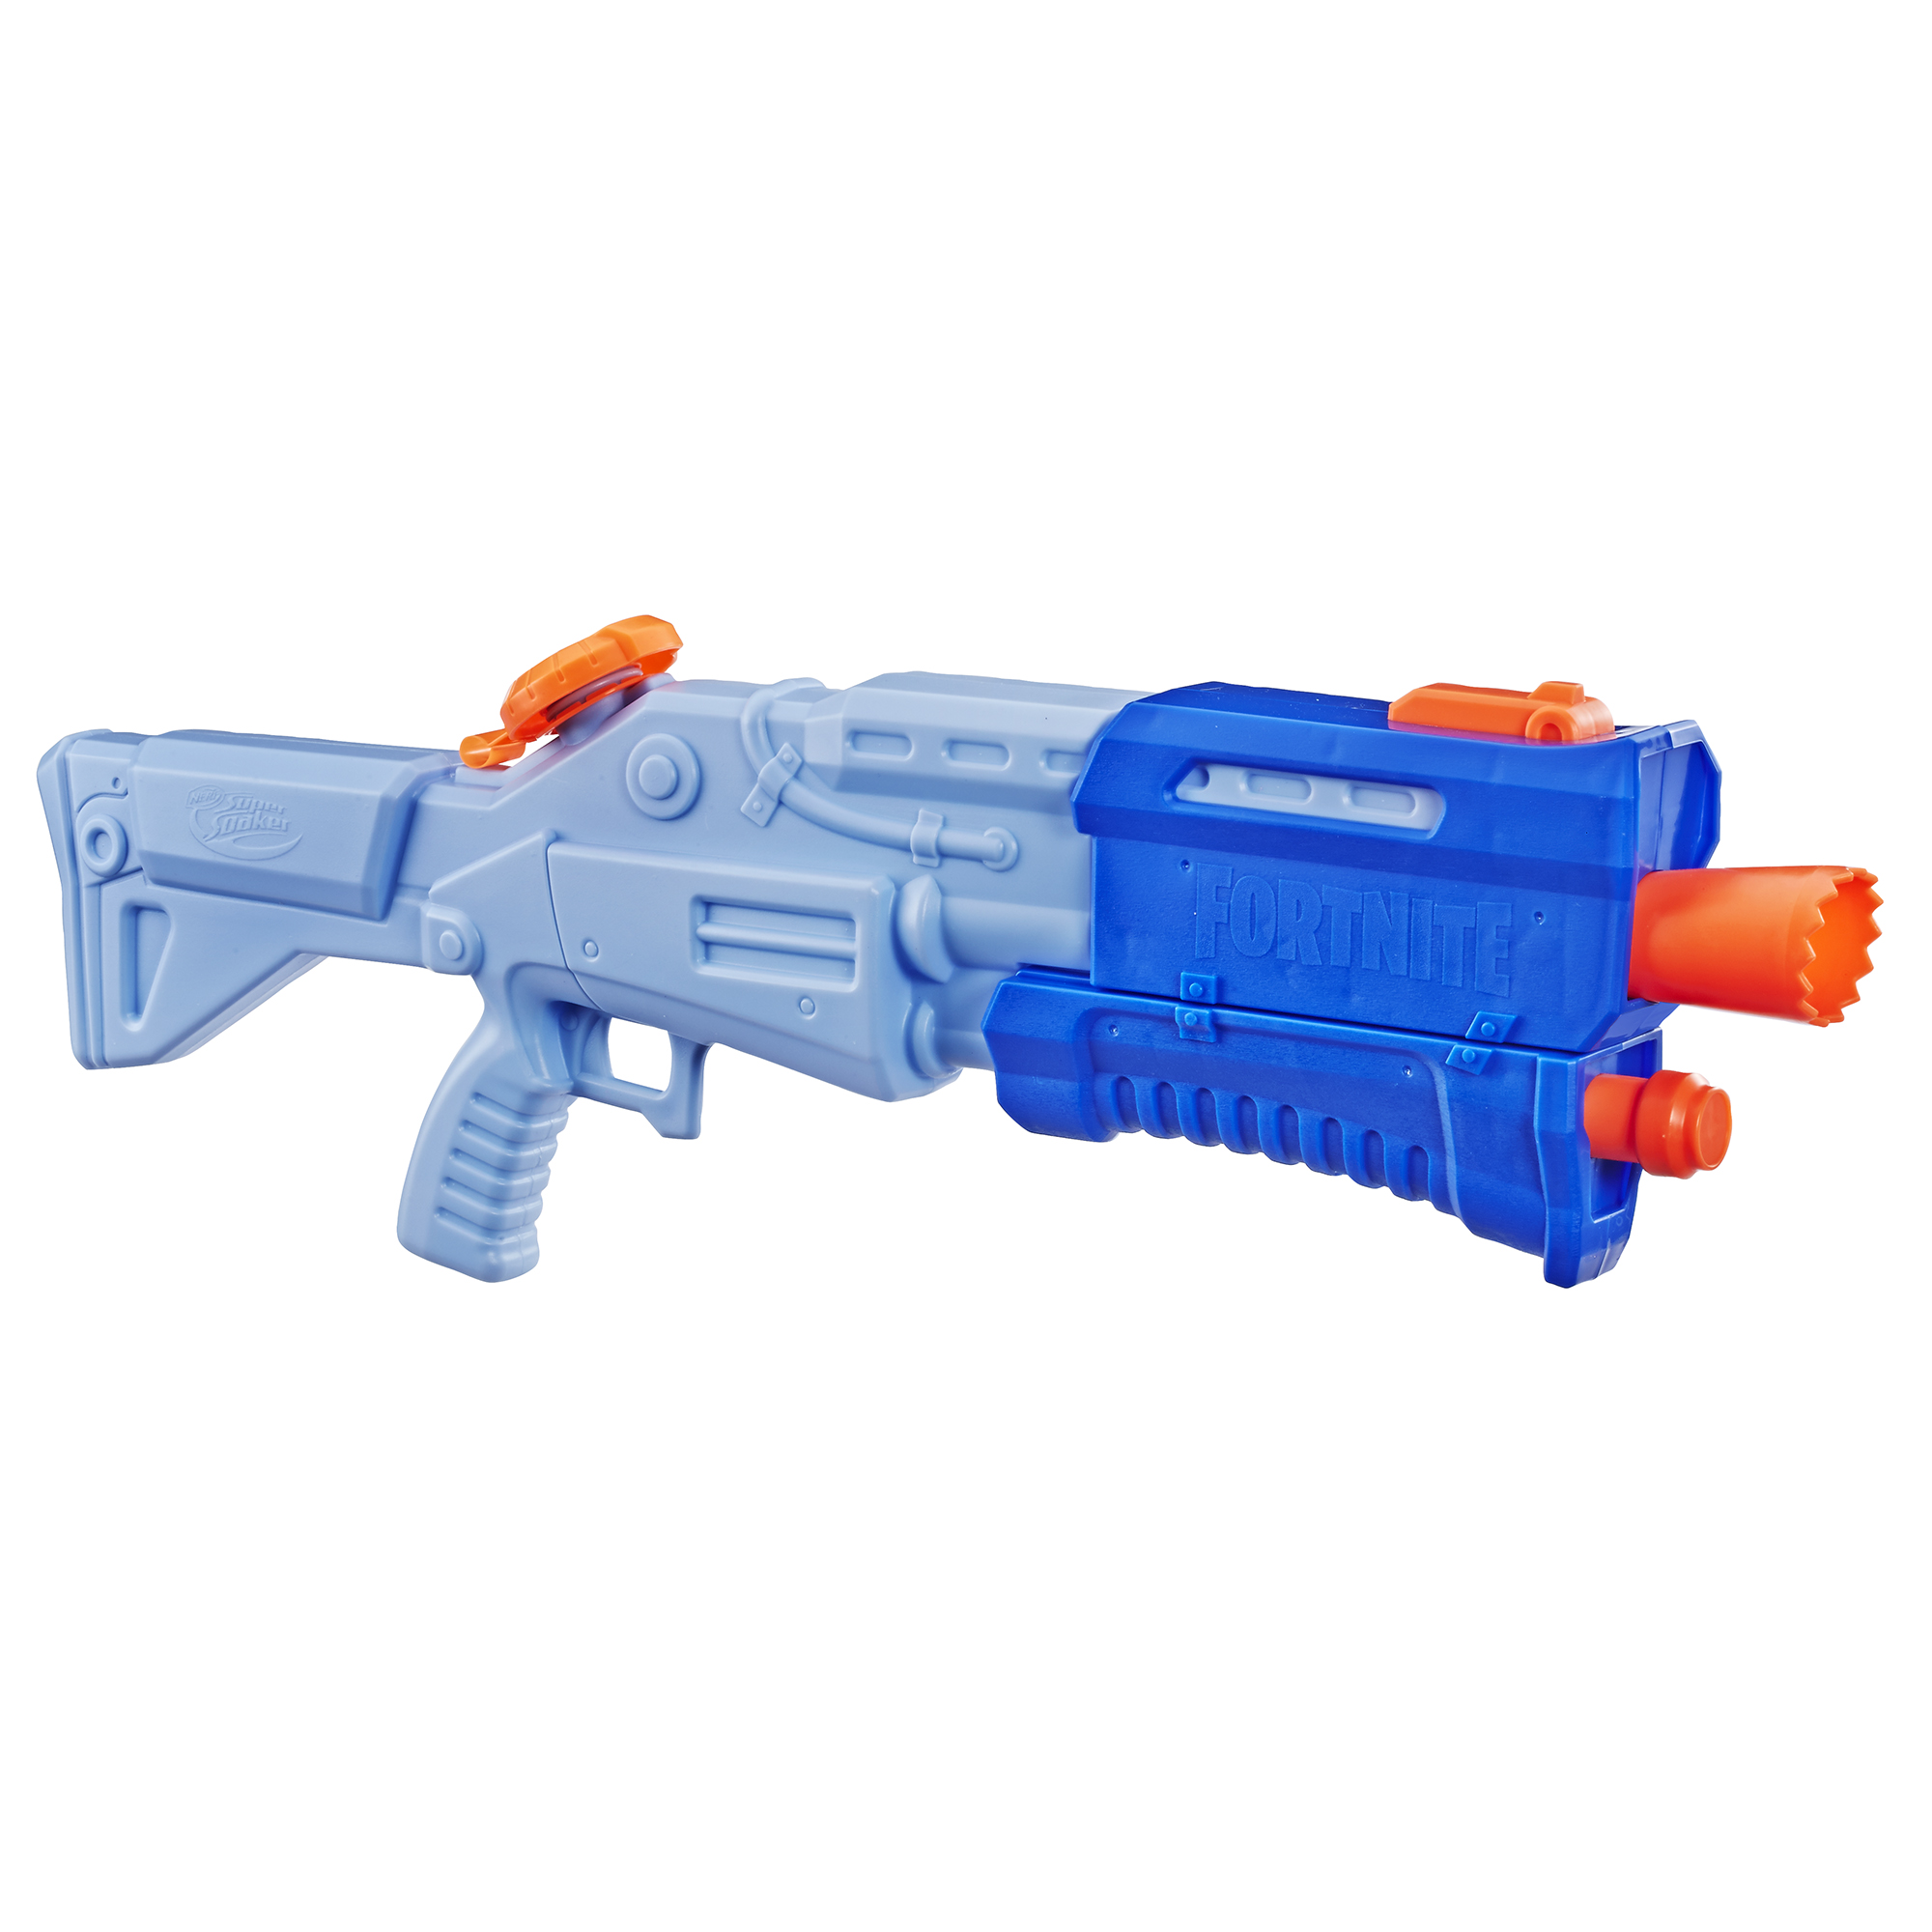Arma Falsa: (16, 600, 1891, 1345)
